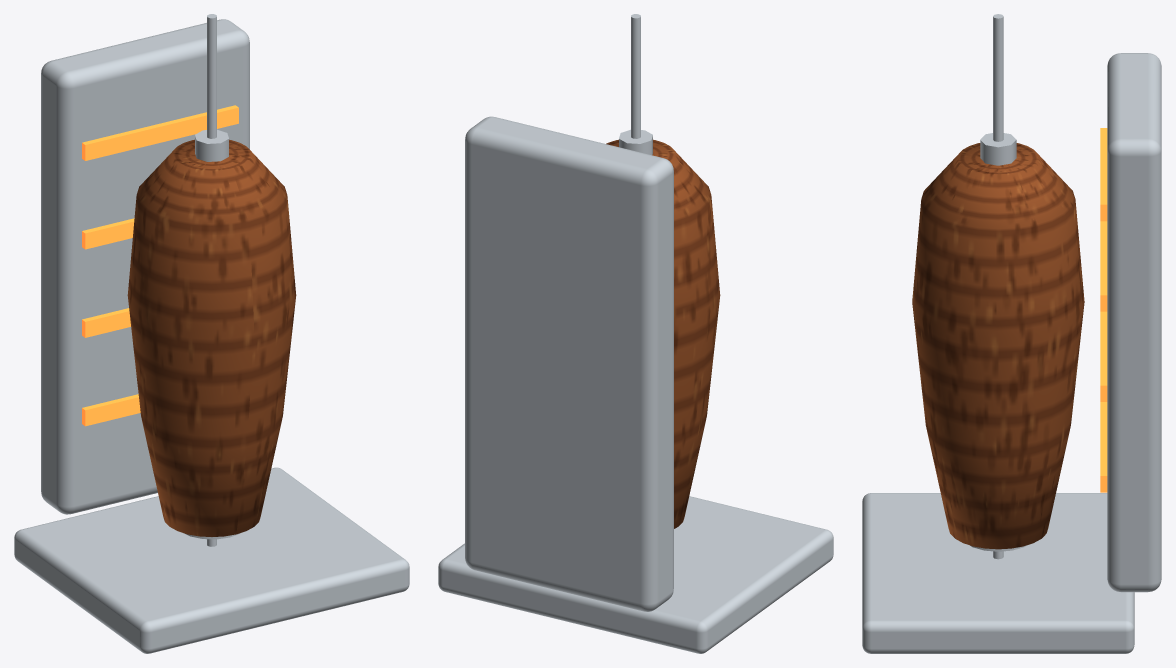
The model's file is doner-ocagi.glb.
The picture shows the model from 3 angles, left to right: view 1: azimuth 30°, elevation 25°; view 2: azimuth 150°, elevation 25°; view 3: azimuth 270°, elevation 25°; orthographic projection. The views are drawn at different scales.
Parts seen in each view (by area): view 1: doner-ocagi, et; view 2: doner-ocagi, et; view 3: doner-ocagi, et.
Boxes of the visible parts, box(x1,y1,x2,y2) form: doner-ocagi: box(14, 14, 409, 653); et: box(127, 139, 296, 536); doner-ocagi: box(438, 14, 833, 653); et: box(606, 139, 720, 528); doner-ocagi: box(862, 14, 1161, 653); et: box(912, 143, 1084, 549).
Size of the model in its own units: 0.7 by 1.39 by 0.66.
3 materials, 1 textured.
